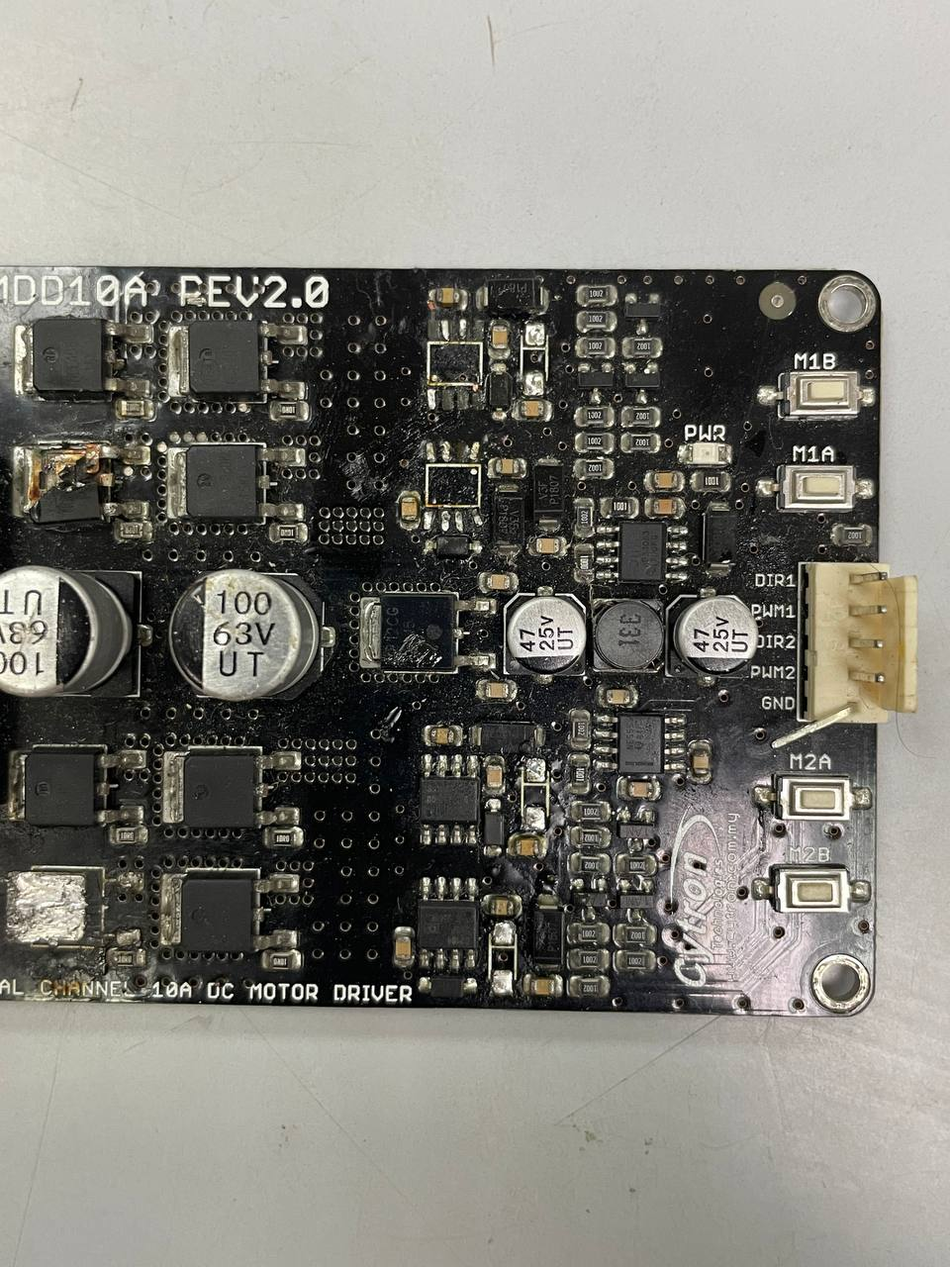bent_pin: (760, 694, 865, 756)
broken_comp: (22, 436, 121, 531)
missing_comp: (7, 866, 111, 950), (423, 458, 489, 515), (426, 336, 488, 392), (516, 764, 554, 843), (518, 332, 552, 391), (485, 927, 518, 981)
